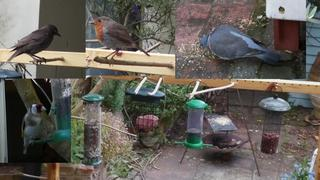goldfinch: (21, 103, 47, 155)
robin: (88, 16, 151, 68)
starling: (7, 24, 62, 65)
wood pigeon: (199, 24, 282, 66)
